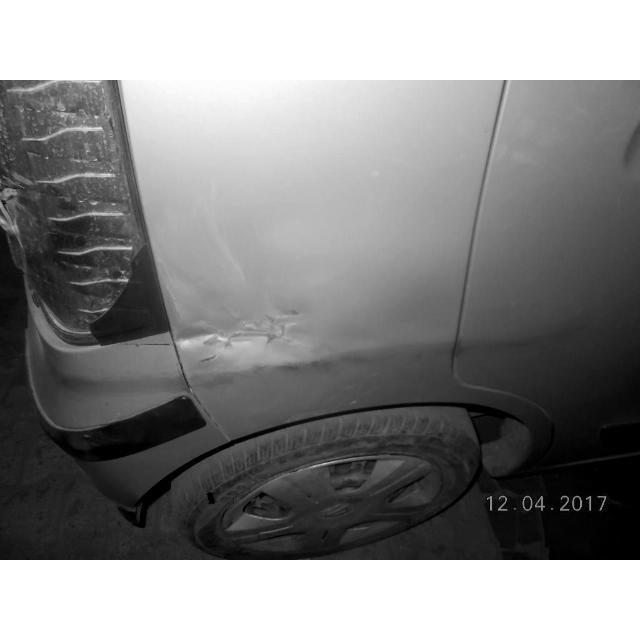quaterpanel-dent: (149, 191, 460, 512)
